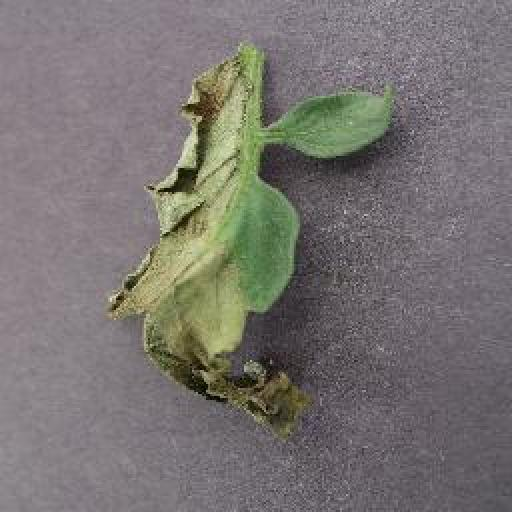disease_tomato: (105, 50, 304, 442)
